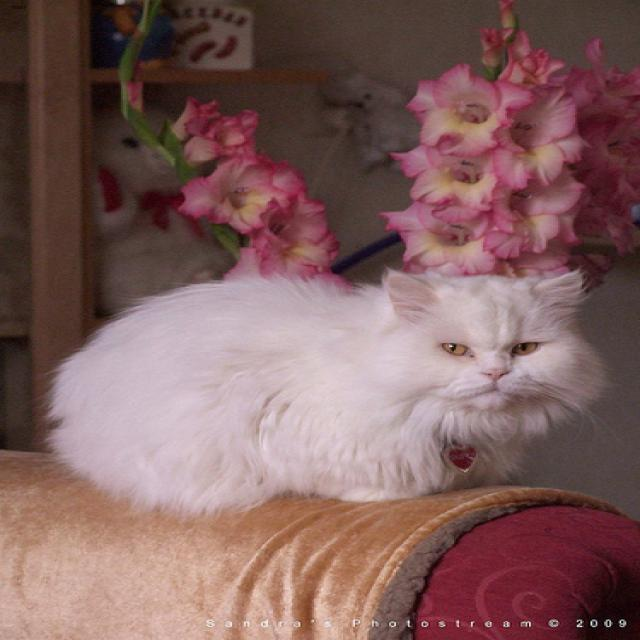Persian: (381, 268, 579, 407)
